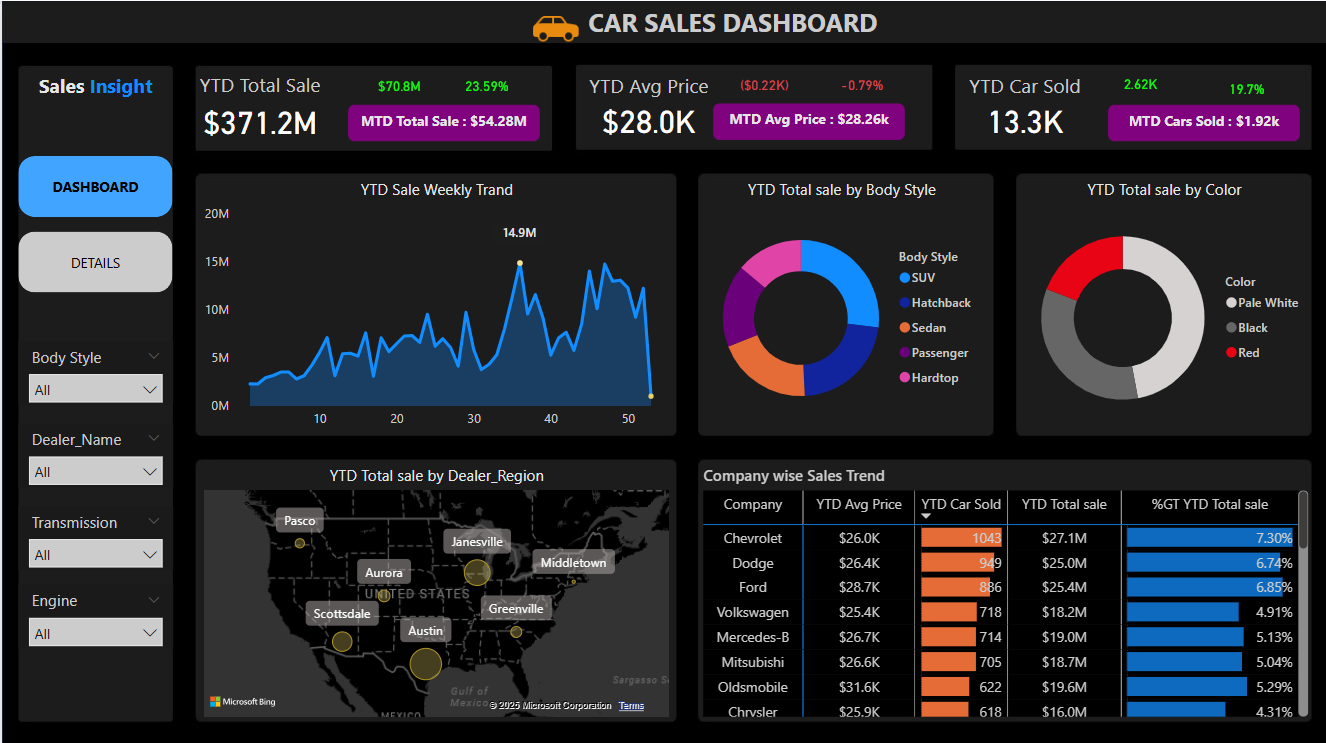

Layout of this report page (visuals, bound fields, positions):
{"tool":"powerbi","page":{"name":"DASHBOARD","canvas":[1280,720],"ordinal":0},"visuals":[{"type":"card","title":"YTD Total Sale","fields":{"Values":["car_data.YTD Total sale"]},"box":[176.1,67.6,146,71.2],"z":0},{"type":"card","fields":{"Values":["car_data.Sales Difference"]},"box":[341.2,65.7,84.7,36.6],"z":1000},{"type":"card","fields":{"Values":["car_data.YoY sales Growth"]},"box":[425.8,65.7,84.7,36.6],"z":2000},{"type":"card","fields":{"Values":["car_data.MTD KPI"]},"box":[333.6,99.8,184.5,35],"z":3000},{"type":"card","title":"YTD  Avg Price","fields":{"Values":["car_data.YTD Avg Price"]},"box":[555,68.8,138.7,67.6],"z":4000},{"type":"card","fields":{"Values":["car_data.AVG Price Diffrence"]},"box":[693.7,65.1,84.5,36.2],"z":5000},{"type":"card","fields":{"Values":["car_data.YoY Avg Price Growth"]},"box":[787.8,65.1,84.5,36.2],"z":6000},{"type":"card","fields":{"Values":["car_data.MTD Avg Price KPI"]},"box":[686.5,98.9,184.6,35],"z":7000},{"type":"card","title":"YTD  Car Sold","fields":{"Values":["Calendar Table.YTD Car Sold"]},"box":[918.1,68.8,138.7,67.6],"z":8000},{"type":"card","fields":{"Values":["car_data.Cars sold Diff"]},"box":[1056.8,63.9,84.5,36.2],"z":9000},{"type":"card","fields":{"Values":["car_data.YoY Car sold growth"]},"box":[1159.4,68.8,84.5,36.2],"z":10000},{"type":"card","fields":{"Values":["car_data.MTD Cars Sold KPI"]},"box":[1067.7,100.1,184.6,35],"z":11000},{"type":"areaChart","title":"YTD Sale Weekly Trend","fields":{"Category":["Calendar Table.Week"],"Y":["Sum(car_data.Price ($))","car_data.Max Point"]},"box":[190.6,171.3,458.4,249.7],"z":12000},{"type":"donutChart","fields":{"Category":["car_data.Body Style"],"Y":["car_data.YTD Total sale"]},"box":[672,171.3,277.5,249.7],"z":13000},{"type":"donutChart","fields":{"Y":["car_data.YTD Total sale"],"Category":["car_data.Color"]},"box":[978.4,171.3,287.1,249.7],"z":14000},{"type":"map","fields":{"Category":["car_data.Dealer_Region"],"Size":["car_data.YTD Total sale"]},"box":[190.6,447.6,458.4,248.5],"z":15000},{"type":"pivotTable","title":"Company wise Sales Trend","fields":{"Values":["car_data.YTD Avg Price","Calendar Table.YTD Car Sold","car_data.YTD Total sale","Divide(car_data.YTD Total sale, ScopedEval(car_data.YTD Total sale, []))"],"Rows":["car_data.Company"]},"box":[672,447.6,593.6,248.5],"z":16000},{"type":"textbox","box":[555,0,301.6,49.5],"z":17000},{"type":"slicer","fields":{"Values":["car_data.Body Style"]},"box":[15.7,328.2,149.6,61.5],"z":18000},{"type":"slicer","fields":{"Values":["car_data.Dealer_Name"]},"box":[15.7,407.8,149.6,61.5],"z":19000},{"type":"slicer","fields":{"Values":["car_data.Transmission"]},"box":[15.7,487.4,149.6,61.5],"z":20000},{"type":"slicer","fields":{"Values":["car_data.Engine"]},"box":[15.7,563.4,149.6,61.5],"z":21000},{"type":"textbox","box":[15.7,63.9,149.6,41],"z":22000},{"type":"pageNavigator","box":[15.7,149.6,149.6,133.9],"z":23000},{"type":"image","box":[483.8,0,86.9,63.9],"z":24000}]}

Visuals, with their boxes in screenshot pixels (x1, y1, x2, y2), scaled from the page's 1280x720 canvas onto the 1326x743 screenshot:
"YTD Total Sale" card: BBox(182, 70, 334, 143)
card - car_data.Sales Difference: BBox(353, 68, 441, 106)
card - car_data.YoY sales Growth: BBox(441, 68, 529, 106)
card - car_data.MTD KPI: BBox(346, 103, 537, 139)
"YTD  Avg Price" card: BBox(575, 71, 719, 141)
card - car_data.AVG Price Diffrence: BBox(719, 67, 806, 105)
card - car_data.YoY Avg Price Growth: BBox(816, 67, 904, 105)
card - car_data.MTD Avg Price KPI: BBox(711, 102, 902, 138)
"YTD  Car Sold" card: BBox(951, 71, 1095, 141)
card - car_data.Cars sold Diff: BBox(1095, 66, 1182, 103)
card - car_data.YoY Car sold growth: BBox(1201, 71, 1289, 108)
card - car_data.MTD Cars Sold KPI: BBox(1106, 103, 1297, 139)
"YTD Sale Weekly Trend" areaChart: BBox(197, 177, 672, 434)
donutChart - car_data.Body Style x car_data.YTD Total sale: BBox(696, 177, 984, 434)
donutChart - car_data.YTD Total sale x car_data.Color: BBox(1014, 177, 1311, 434)
map - car_data.Dealer_Region x car_data.YTD Total sale: BBox(197, 462, 672, 718)
"Company wise Sales Trend" pivotTable: BBox(696, 462, 1311, 718)
textbox: BBox(575, 0, 887, 51)
slicer - car_data.Body Style: BBox(16, 339, 171, 402)
slicer - car_data.Dealer_Name: BBox(16, 421, 171, 484)
slicer - car_data.Transmission: BBox(16, 503, 171, 566)
slicer - car_data.Engine: BBox(16, 581, 171, 645)
textbox: BBox(16, 66, 171, 108)
pageNavigator: BBox(16, 154, 171, 293)
image: BBox(501, 0, 591, 66)
